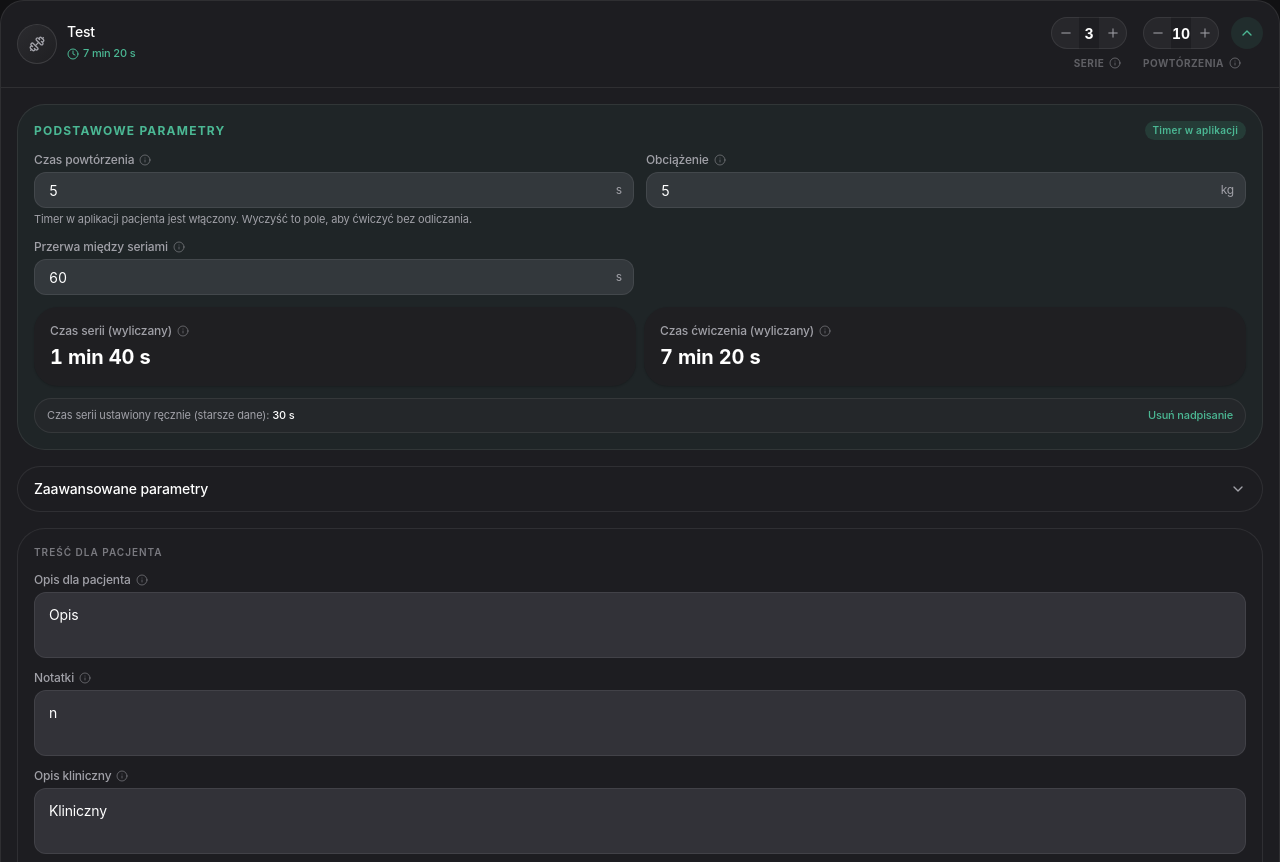
Test: mapping surface integrity › każde pole mapping edit ma input z testid w ExerciseExecutionCard
Click the button with test id "map-card-m1-advanced-toggle" at coordinates (121, 488), box [17,466,1263,512]
(page scrolled)
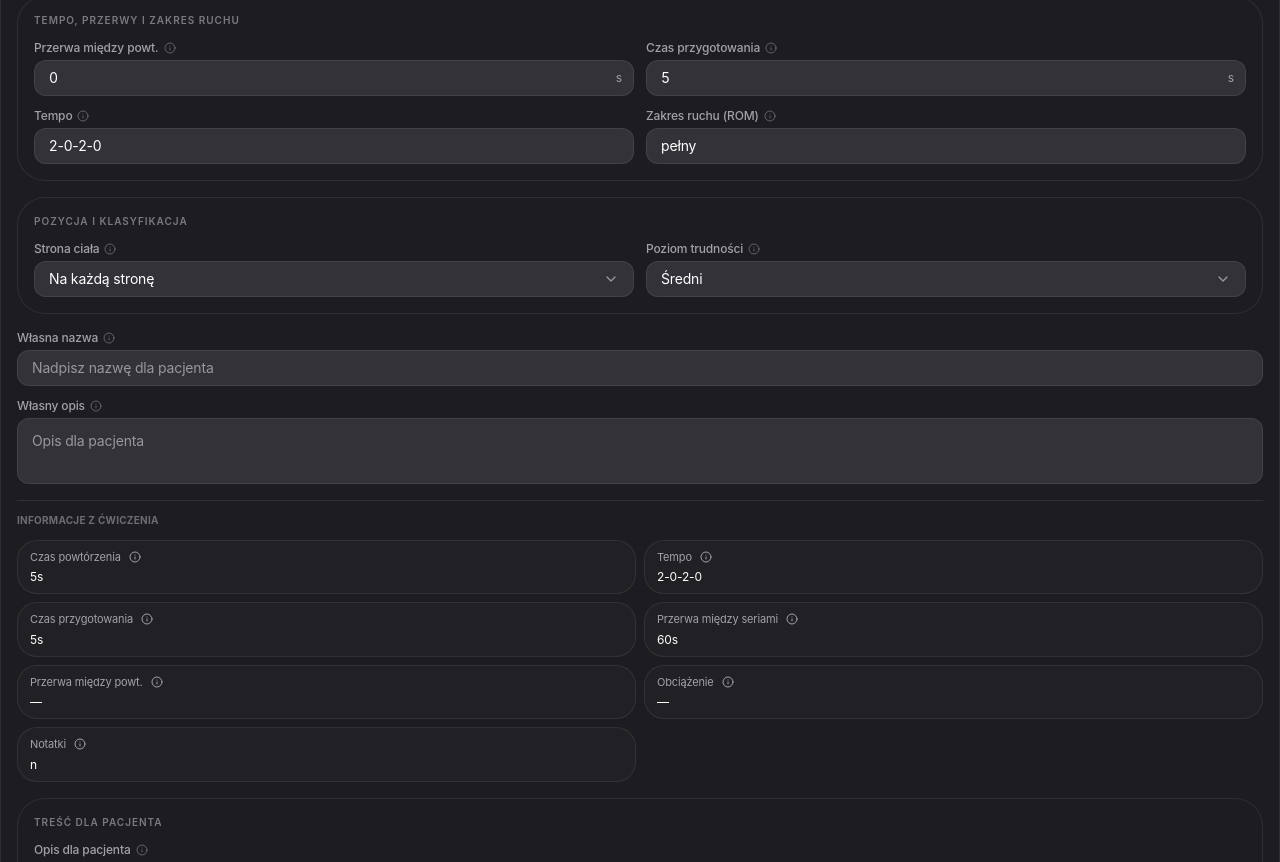
Now the dropdown with test id "map-card-m1-difficulty-select" is shown, box [646,261,1246,297]
Now the number field with test id "map-card-m1-preparation-time-input" is shown, box [646,60,1246,96]
Now the number field with test id "map-card-m1-rest-reps-input" is shown, box [34,60,634,96]
